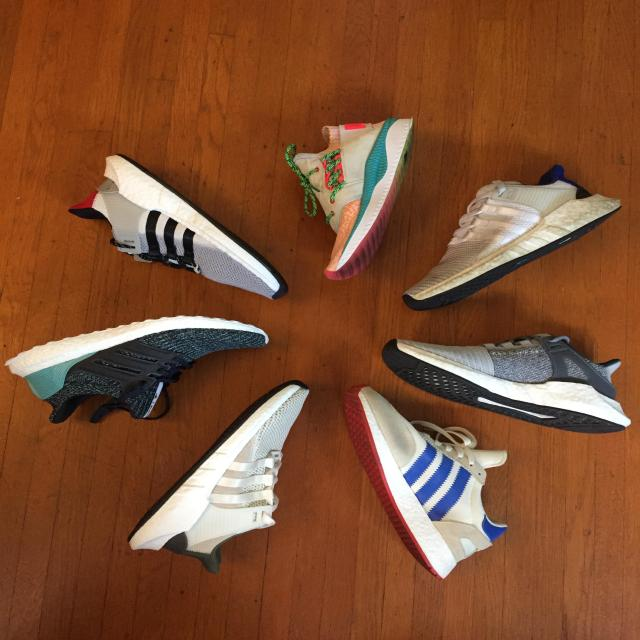shoe: (124, 382, 308, 563), (71, 153, 293, 302), (404, 164, 625, 310), (347, 384, 499, 582), (6, 317, 271, 423), (383, 338, 635, 438), (291, 112, 417, 280)
